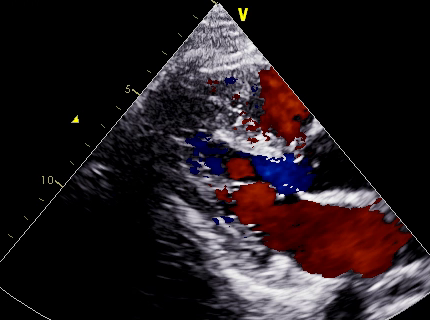AR: (223, 154, 289, 215)
